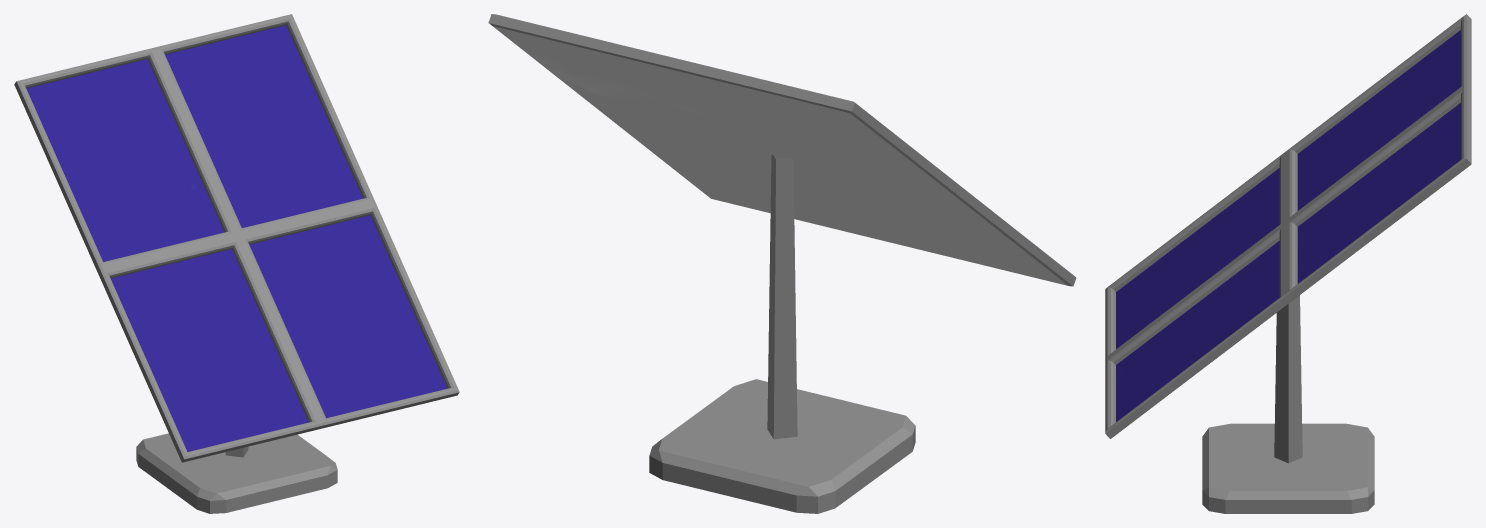
File: SolarPanel.glb
3 renders of one model, left to right at view 1: azimuth 30°, elevation 25°; view 2: azimuth 150°, elevation 25°; view 3: azimuth 270°, elevation 25°, orthographic. The views are drawn at different scales.
Visible parts, largest first — view 1: Panel, SolarBase; view 2: Panel, SolarBase; view 3: Panel, SolarBase.
Boxes of the visible parts, bbox=[...] form: Panel: bbox=[14, 14, 459, 462]; SolarBase: bbox=[136, 433, 337, 513]; Panel: bbox=[488, 14, 1076, 286]; SolarBase: bbox=[649, 154, 915, 513]; Panel: bbox=[1105, 14, 1471, 438]; SolarBase: bbox=[1202, 295, 1374, 513].
Size of the model in its own units: 3.97 by 5.01 by 4.25.
Materials: 1 (1 with a texture image).
